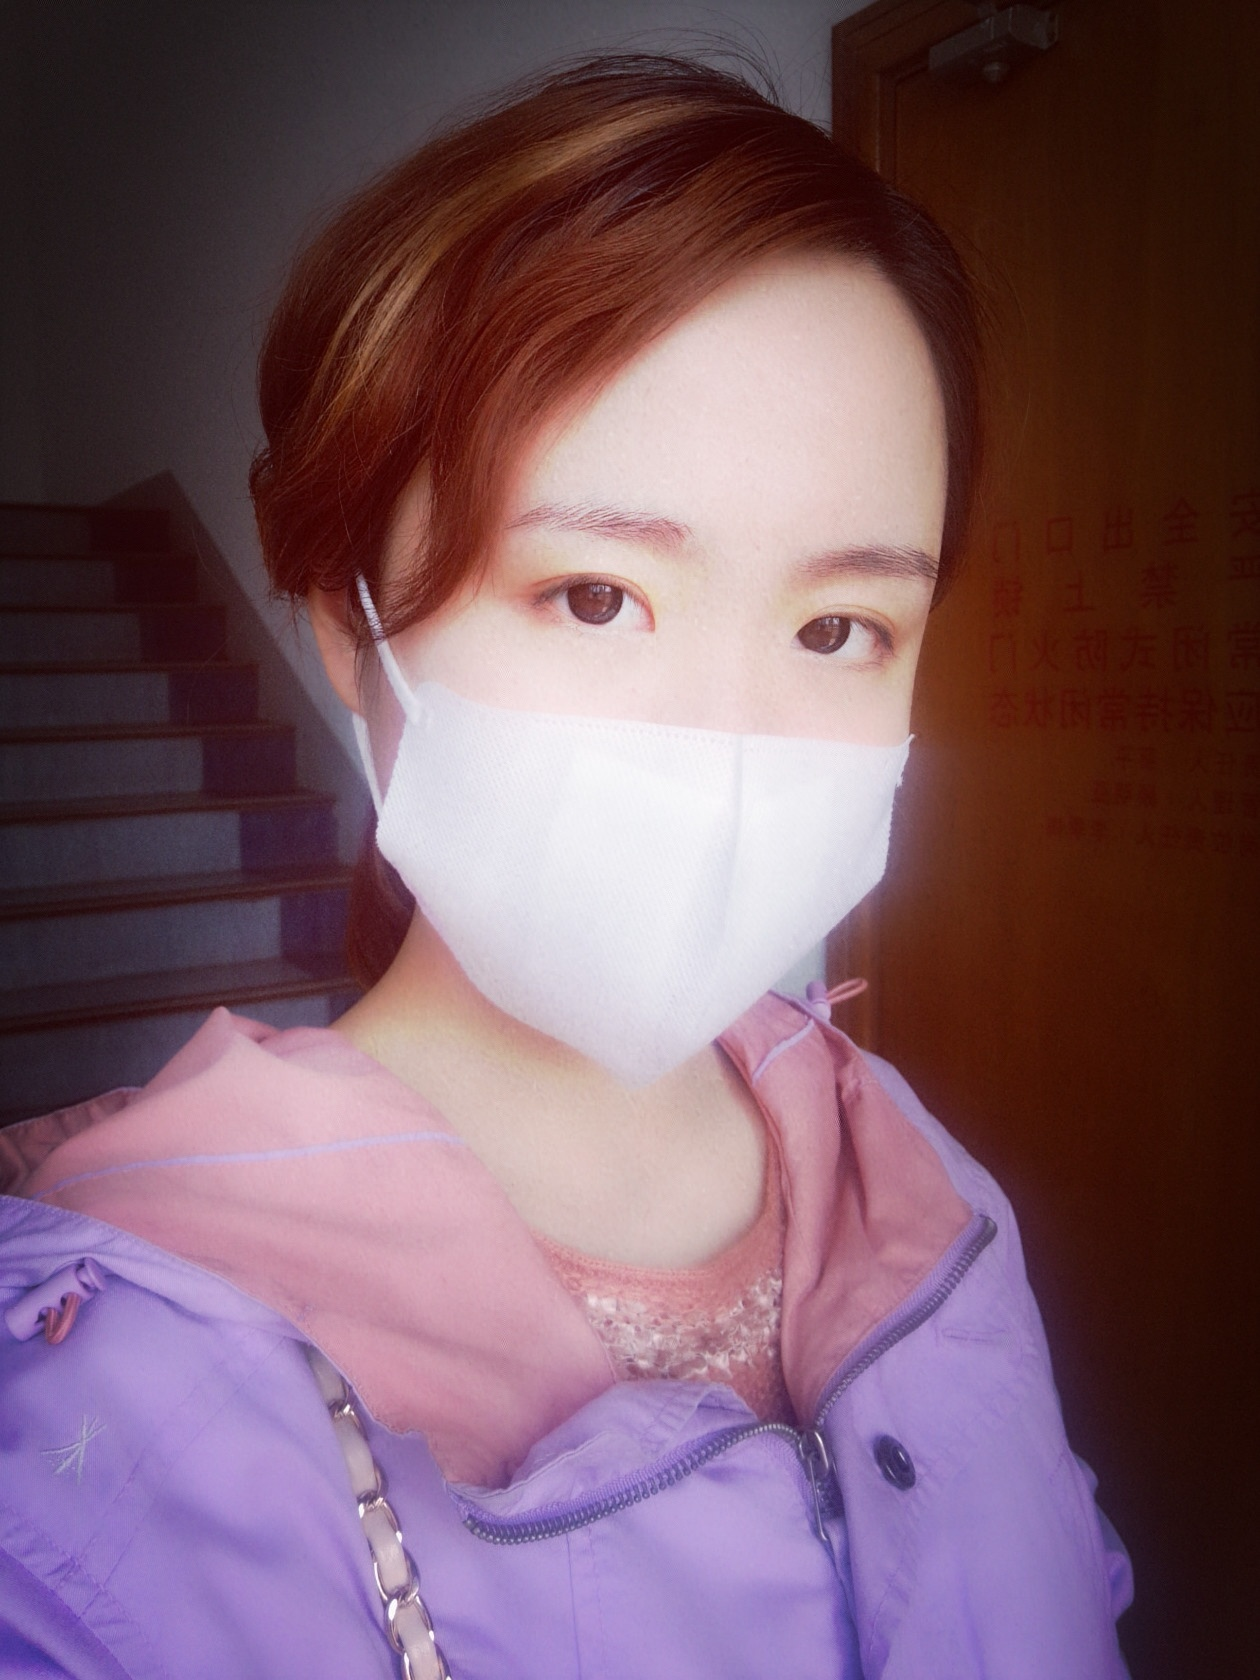face_mask: (404, 268, 905, 1064)
